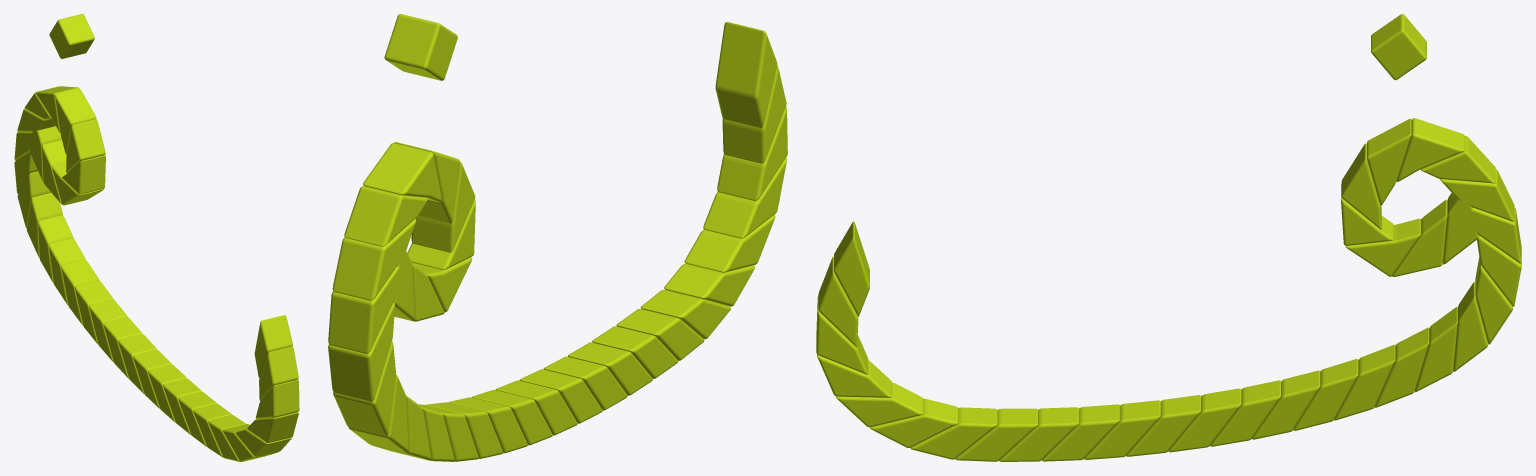
3 renders of one model, left to right at view 1: azimuth 30°, elevation 25°; view 2: azimuth 150°, elevation 25°; view 3: azimuth 270°, elevation 25°, orthographic. The views are drawn at different scales.
Visible parts, largest first — view 1: Cube, Cube.001; view 2: Cube, Cube.001; view 3: Cube, Cube.001.
Boxes of the visible parts, box(x1,y1,x2,y2) form: Cube: box(14, 86, 299, 461); Cube.001: box(49, 14, 94, 58); Cube: box(328, 21, 787, 461); Cube.001: box(384, 14, 457, 80); Cube: box(816, 118, 1521, 461); Cube.001: box(1371, 14, 1426, 80).
Size of the model in its own units: 60 by 689 by 1019.
